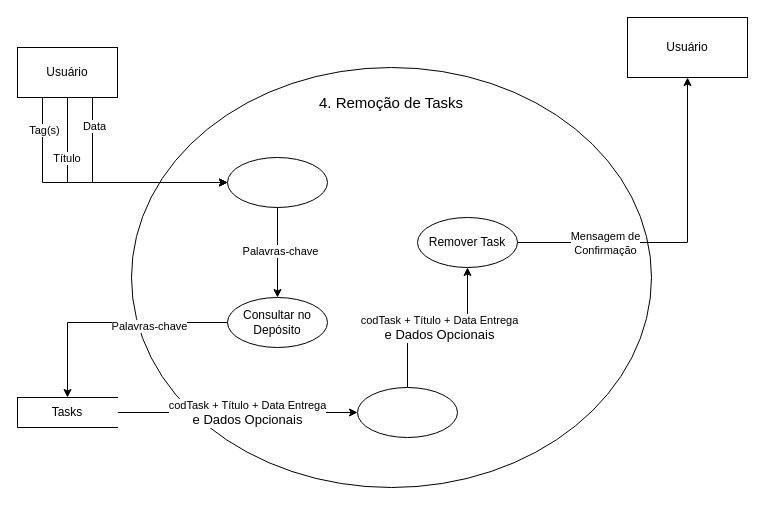
This 765x505 diagram has some shape labels left out. Each missing label, with the centre of its shape:
"Buscar Task" goes at point (277, 182).
"Exibir Task" goes at point (407, 412).
